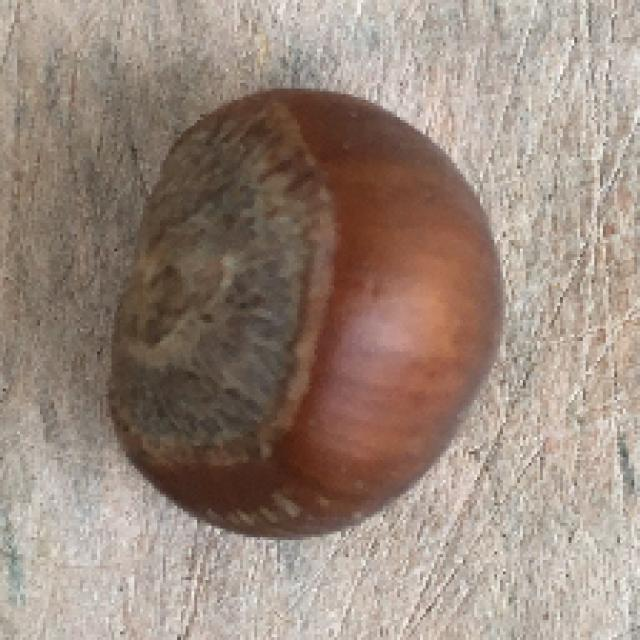damagedHazelnut: (110, 83, 518, 548)
